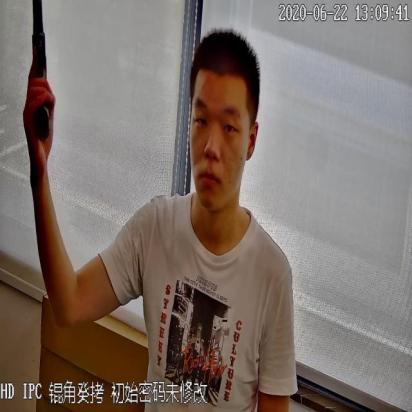Gun: (27, 0, 54, 152)
